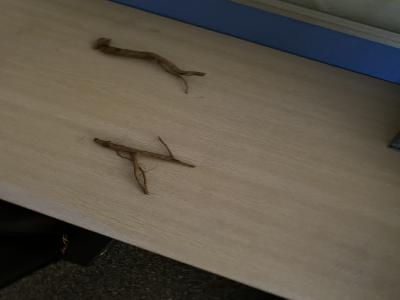Root: (93, 38, 205, 94), (94, 136, 195, 194)
